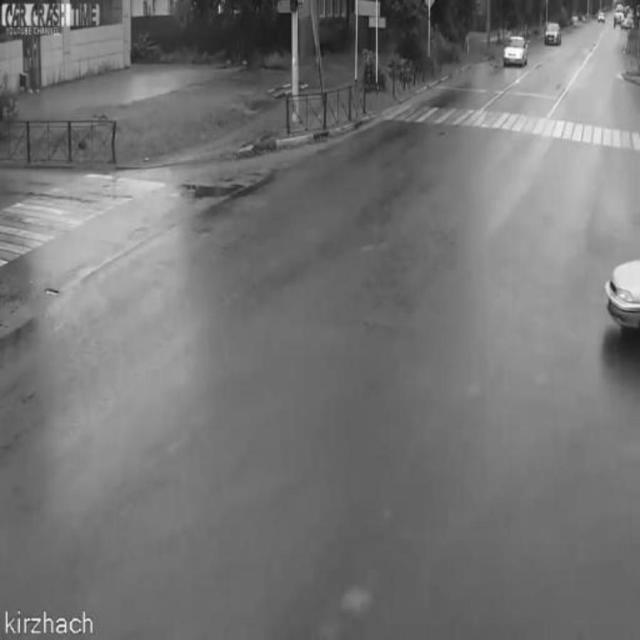vehicle: (501, 31, 531, 69), (544, 19, 564, 49)
